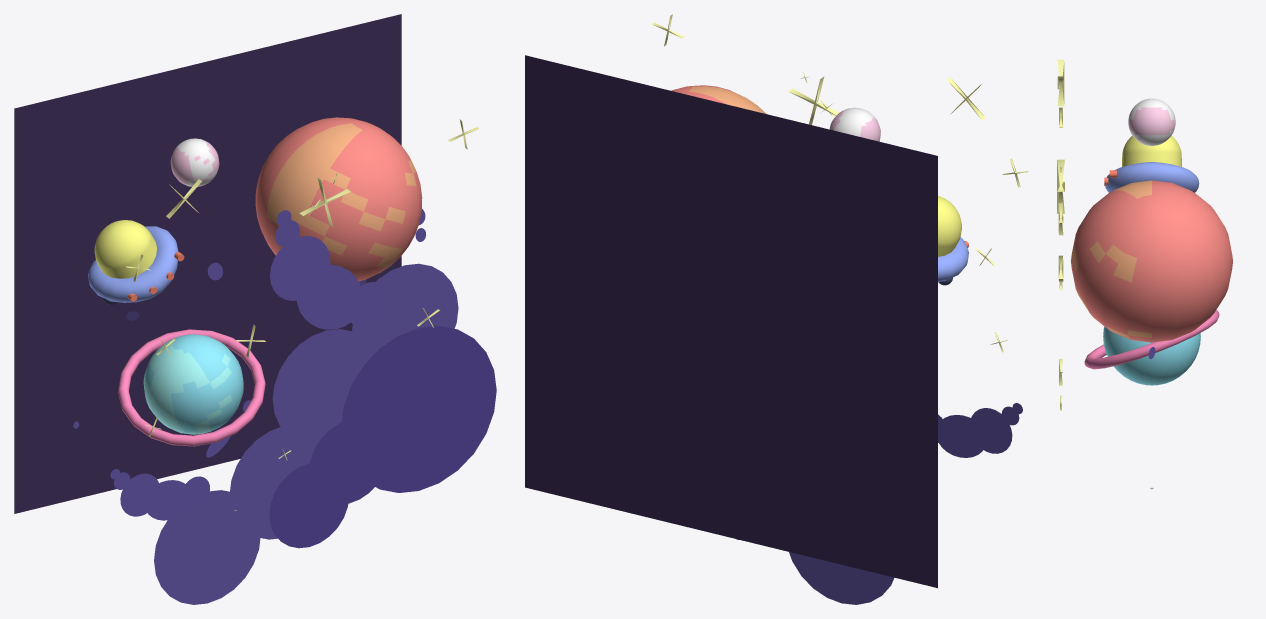
File: BG_space_world.fbx
The picture shows the model from 3 angles, left to right: view 1: azimuth 30°, elevation 25°; view 2: azimuth 150°, elevation 25°; view 3: azimuth 270°, elevation 25°; orthographic projection. The views are drawn at different scales.
Visible parts, largest first — view 1: pPlane1, pDisc17, pDisc18, pSphere1, pSphere2, pDisc7, pTorus1, pDisc8, pTorus2, pSphere4, pSphere3; view 2: pPlane1, pDisc8, pDisc18, pSphere3, pSphere4, pSphere1, pTorus2; view 3: pSphere1, pSphere2, pSphere3, pTorus2, pTorus1, pSphere4, pCube34, pCube44.
Boxes of the visible parts, bbox=[...] form: pPlane1: bbox=[14, 14, 401, 513]; pDisc17: bbox=[269, 326, 496, 548]; pDisc18: bbox=[154, 263, 458, 604]; pSphere1: bbox=[255, 117, 422, 281]; pSphere2: bbox=[143, 334, 243, 434]; pDisc7: bbox=[270, 210, 389, 329]; pTorus1: bbox=[118, 329, 265, 446]; pDisc8: bbox=[110, 469, 209, 520]; pTorus2: bbox=[88, 226, 178, 302]; pSphere4: bbox=[94, 220, 157, 278]; pSphere3: bbox=[170, 138, 219, 186]; pPlane1: bbox=[525, 55, 937, 588]; pDisc8: bbox=[938, 403, 1022, 457]; pDisc18: bbox=[789, 552, 894, 604]; pSphere3: bbox=[829, 107, 880, 141]; pSphere4: bbox=[938, 196, 961, 256]; pSphere1: bbox=[671, 85, 766, 113]; pTorus2: bbox=[938, 237, 968, 281]; pSphere1: bbox=[1071, 180, 1232, 342]; pSphere2: bbox=[1103, 326, 1200, 385]; pSphere3: bbox=[1128, 98, 1175, 145]; pTorus2: bbox=[1105, 162, 1199, 192]; pTorus1: bbox=[1084, 310, 1219, 369]; pSphere4: bbox=[1122, 135, 1181, 166]; pCube34: bbox=[1057, 159, 1064, 213]; pCube44: bbox=[1057, 59, 1064, 106].
Size of the model in its own units: 280 by 307 by 113.
